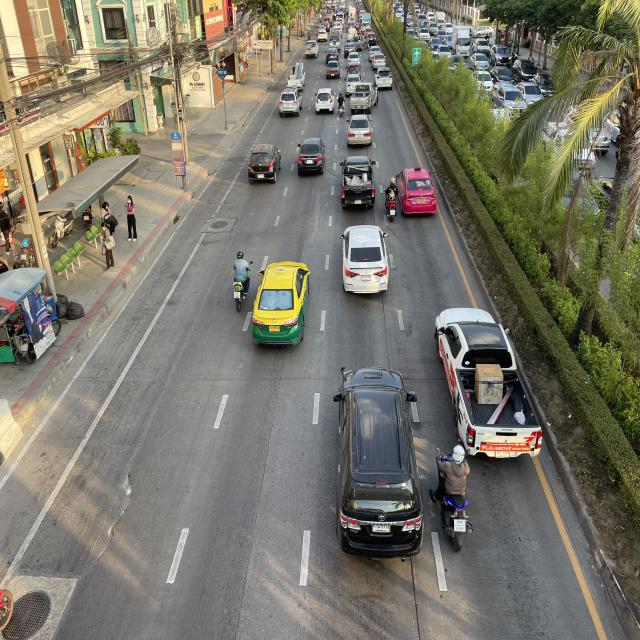bike: (430, 436, 474, 556), (229, 243, 252, 316), (384, 177, 398, 224), (336, 91, 346, 118)
car: (431, 302, 543, 464), (335, 359, 423, 561), (250, 253, 316, 350), (340, 222, 390, 302), (396, 165, 437, 216), (339, 154, 376, 208), (246, 142, 283, 184), (297, 139, 327, 176), (349, 82, 379, 114), (346, 115, 373, 147), (279, 88, 303, 118), (314, 87, 336, 116)
truck: (285, 62, 305, 92)
